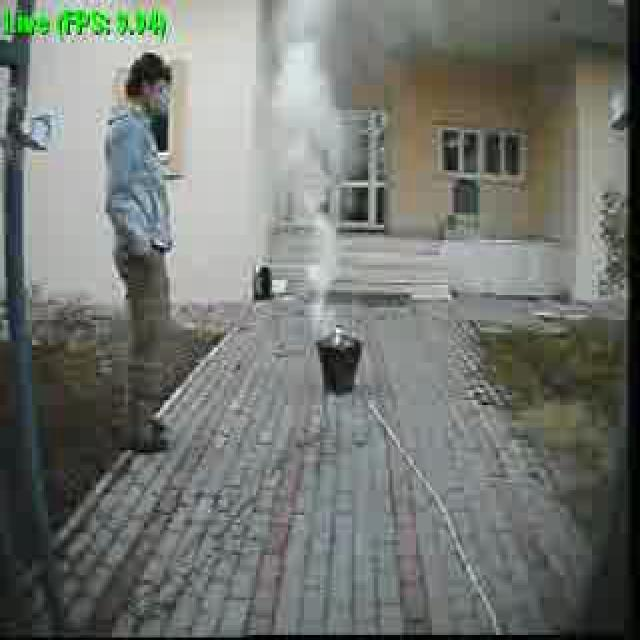Smoke: (269, 9, 346, 327)
